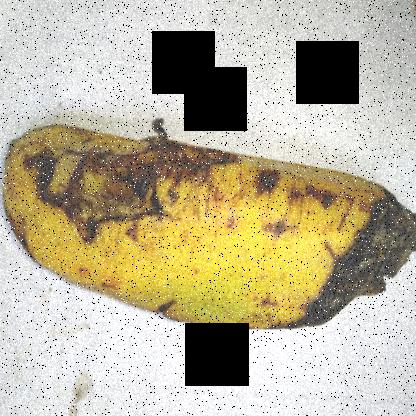ripe: (0, 100, 306, 350)
rotten: (259, 189, 415, 370), (23, 125, 246, 249)
